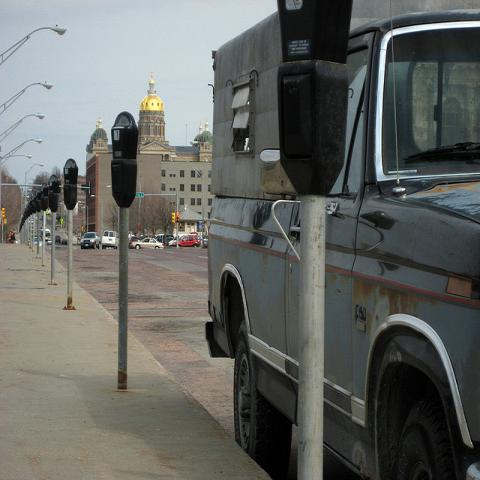car: (130, 237, 166, 249), (80, 232, 102, 250), (172, 235, 200, 247), (102, 229, 118, 249), (203, 234, 208, 248), (55, 235, 61, 244)
truck: (202, 0, 479, 479), (81, 232, 101, 250)
